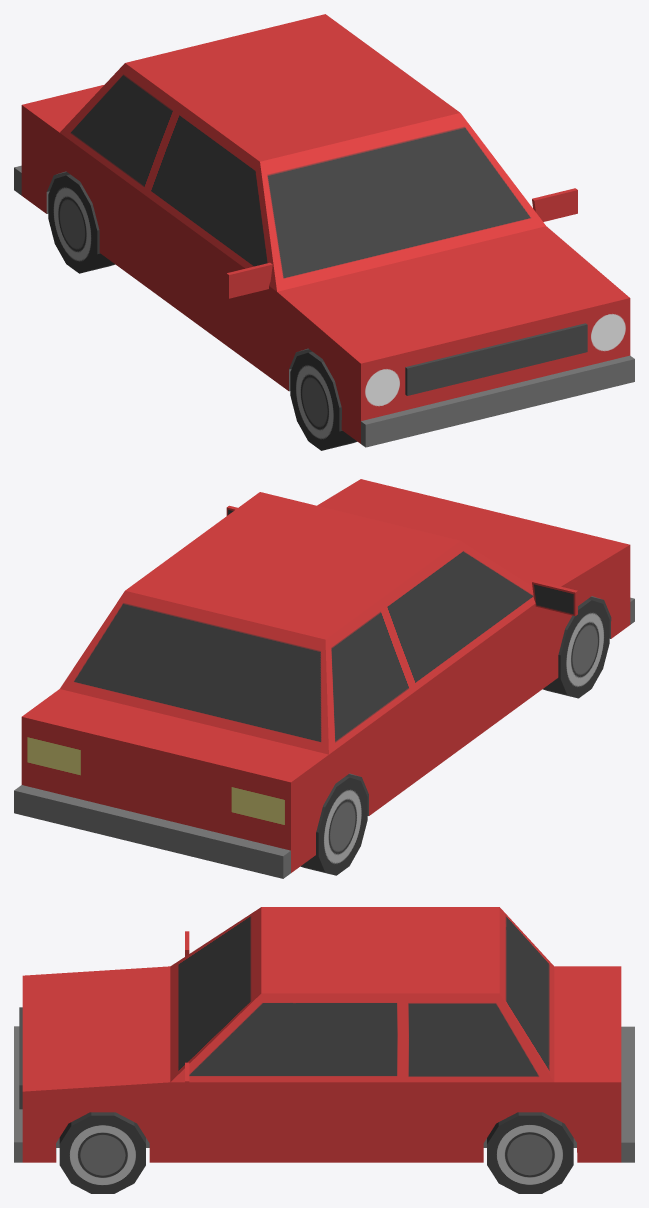
The model's file is Sedan.fbx.
3 views of the same model, one above another, from view 1: azimuth 30°, elevation 25°; view 2: azimuth 150°, elevation 25°; view 3: azimuth 270°, elevation 25° (orthographic). The views are drawn at different scales.
Visible parts, largest first — view 1: Sedan; view 2: Sedan; view 3: Sedan.
Part boxes in pixels (x1,y1,x2,y2): Sedan: (14,14,634,450); Sedan: (14,479,634,878); Sedan: (14,907,634,1193).
Size of the model in its own units: 263 by 151 by 459.
